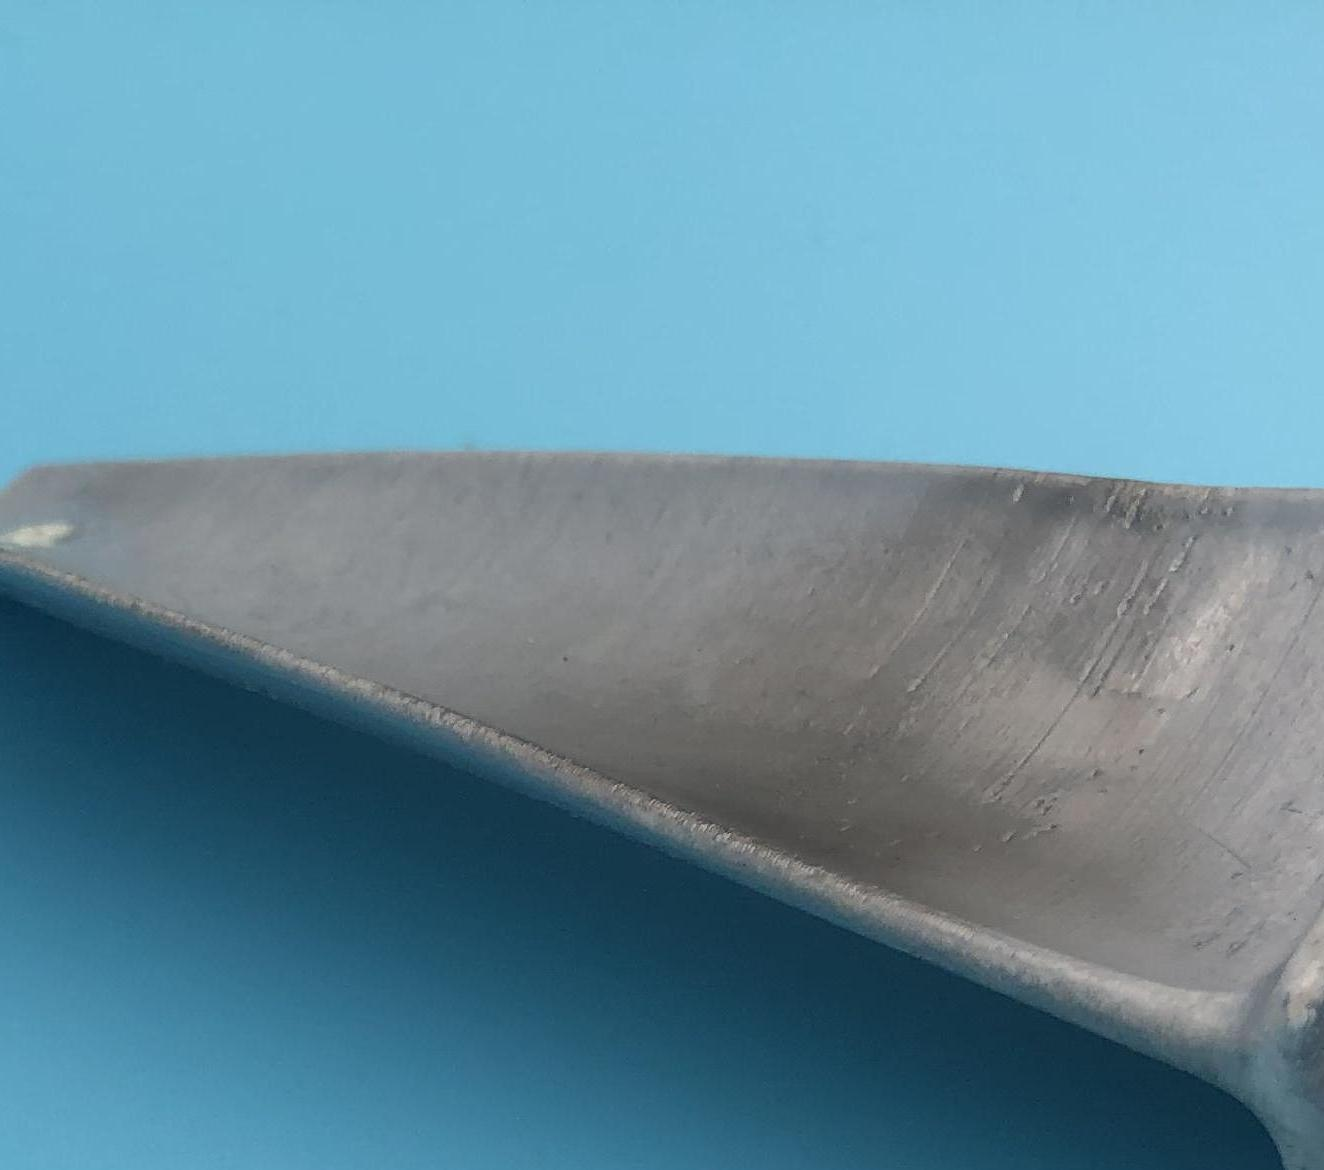ablation: (672, 725, 1024, 874)
